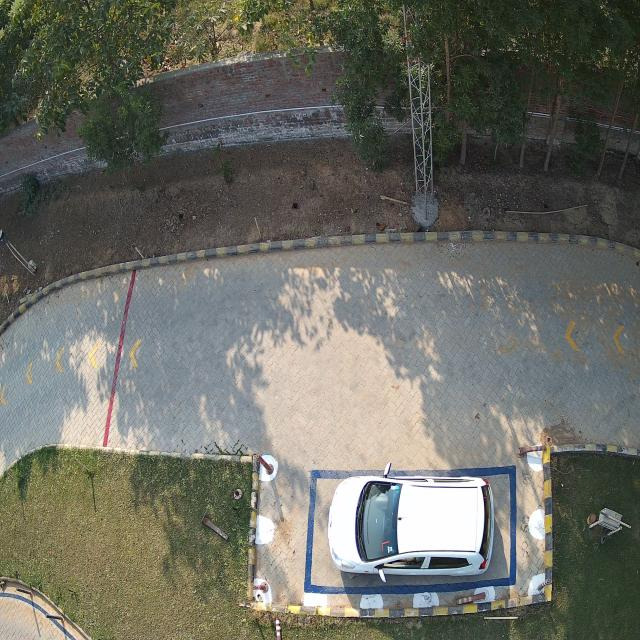car: (326, 474, 497, 578)
